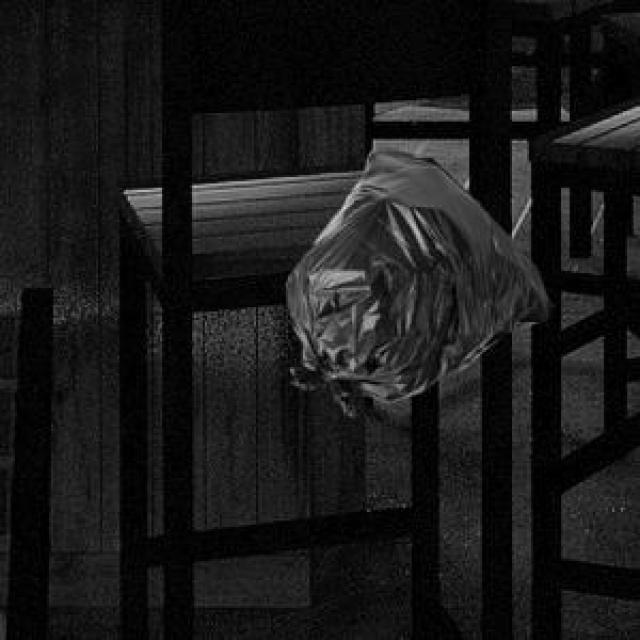miscellaneous trash: (282, 143, 548, 412)
